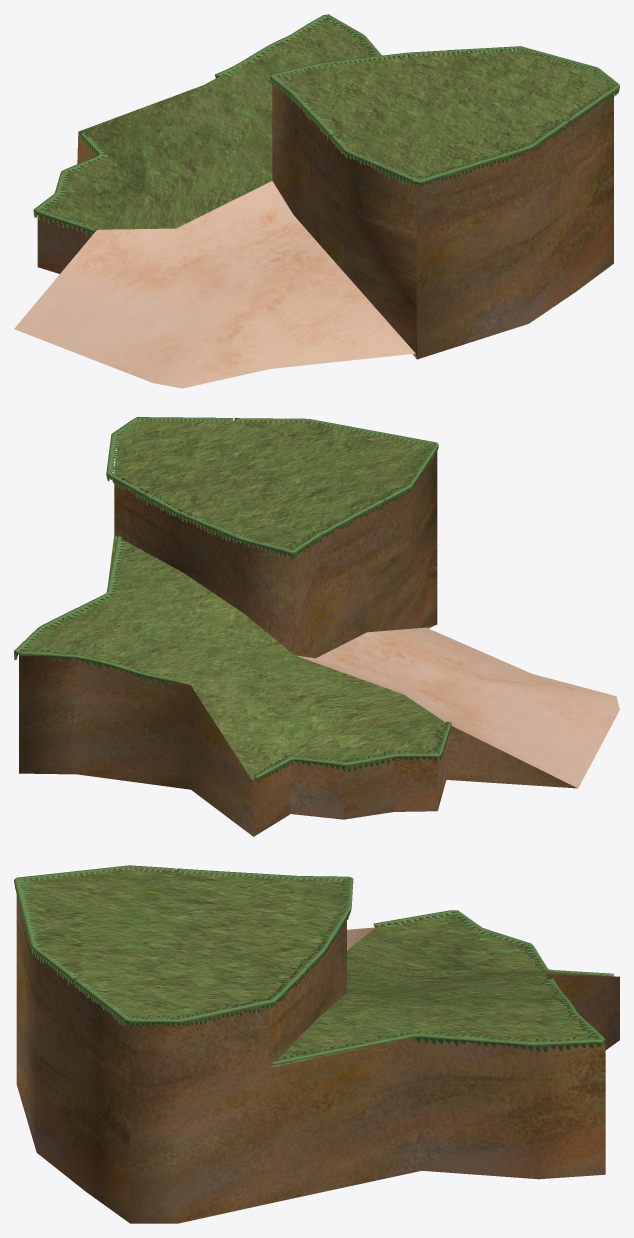
Rendered from Three_levels_Beach_01.FBX.
The picture shows the model from 3 angles, top to bottom: view 1: azimuth 30°, elevation 25°; view 2: azimuth 150°, elevation 25°; view 3: azimuth 270°, elevation 25°; orthographic projection. The views are drawn at different scales.
Visible parts, largest first — view 1: Box004, Box009, Box011, Box010, Box007, Box006; view 2: Box004, Box011, Box006, Box007, Box009, Box010; view 3: Box004, Box006, Box010, Box009, Box011, Box007.
Boxes of the visible parts, x1,y1,x2,y2 form: Box004: (14,19,613,388); Box009: (330,119,569,186); Box011: (269,49,461,140); Box010: (448,46,619,124); Box007: (33,132,108,235); Box006: (215,14,381,77); Box004: (19,420,619,836); Box011: (143,493,385,559); Box006: (14,535,173,686); Box007: (254,721,451,782); Box009: (234,418,438,504); Box010: (106,417,232,504); Box004: (16,868,619,1223); Box006: (272,977,604,1065); Box010: (73,967,307,1028); Box009: (14,865,175,984); Box011: (176,868,353,979); Box007: (373,910,613,976).
Size of the model in its own units: 11.13 by 3.63 by 9.67.
